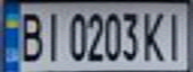0: (63, 8, 87, 63), (103, 8, 124, 63)
2: (84, 8, 106, 63)
3: (121, 8, 142, 63)
B: (15, 8, 45, 63)
I: (160, 7, 190, 62), (39, 8, 66, 63)
K: (139, 7, 169, 62)
